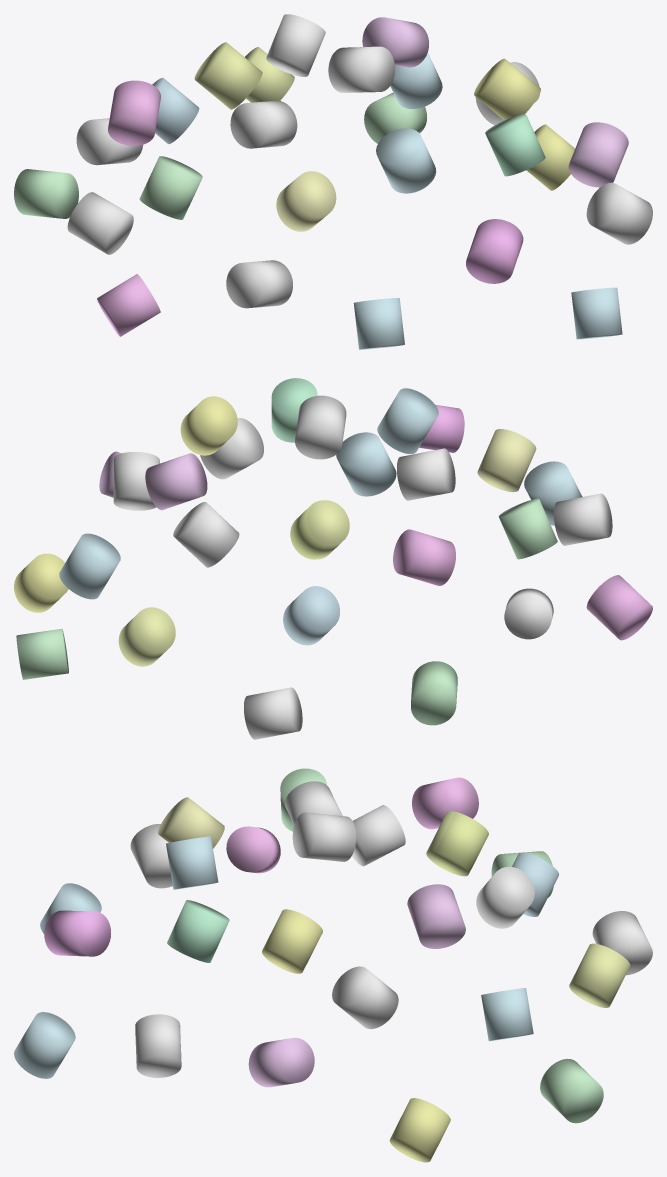
Rendered from marshmallows.gltf.
The picture shows the model from 3 angles, top to bottom: view 1: azimuth 30°, elevation 25°; view 2: azimuth 150°, elevation 25°; view 3: azimuth 270°, elevation 25°; orthographic projection.
Parts seen in each view (by area): view 1: Cylinder.022, Cylinder.011, Cylinder.023, Cylinder.005, Cylinder.003, Cylinder.001, Cylinder.019, Cylinder.008, Cylinder.002, Cylinder.020, Cylinder, Cylinder.010 (+15 smaller); view 2: Cylinder.027, Cylinder.001, Cylinder.005, Cylinder.017, Cylinder.011, Cylinder.021, Cylinder.012, Cylinder.019, Cylinder.004, Cylinder, Cylinder.002, Cylinder.008 (+16 smaller); view 3: Cylinder.004, Cylinder.026, Cylinder.013, Cylinder.027, Cylinder.001, Cylinder.003, Cylinder.022, Cylinder.023, Cylinder.012, Cylinder.006, Cylinder.018, Cylinder.025 (+14 smaller).
Part boxes in pixels (left/top/right/bottom): Cylinder.022: left=586, top=182, right=652, bottom=244; Cylinder.011: left=376, top=128, right=436, bottom=193; Cylinder.023: left=568, top=122, right=628, bottom=187; Cylinder.005: left=108, top=80, right=160, bottom=145; Cylinder.003: left=466, top=219, right=523, bottom=283; Cylinder.001: left=328, top=46, right=394, bottom=92; Cylinder.019: left=14, top=169, right=78, bottom=218; Cylinder.008: left=230, top=100, right=297, bottom=148; Cylinder.002: left=226, top=260, right=292, bottom=308; Cylinder.020: left=67, top=192, right=133, bottom=254; Cylinder: left=276, top=171, right=336, bottom=231; Cylinder.010: left=139, top=156, right=202, bottom=219; Cylinder.027: left=336, top=432, right=396, bottom=496; Cylinder.001: left=295, top=395, right=346, bottom=459; Cylinder.005: left=393, top=529, right=455, bottom=585; Cylinder.017: left=59, top=533, right=120, bottom=599; Cylinder.011: left=377, top=388, right=438, bottom=453; Cylinder.021: left=586, top=575, right=652, bottom=640; Cylinder.012: left=173, top=502, right=239, bottom=567; Cylinder.019: left=411, top=661, right=457, bottom=725; Cylinder.004: left=145, top=453, right=207, bottom=510; Cylinder: left=477, top=429, right=536, bottom=492; Cylinder.002: left=553, top=493, right=612, bottom=545; Cylinder.008: left=397, top=448, right=455, bottom=500; Cylinder.004: left=407, top=884, right=465, bottom=948; Cylinder.026: left=540, top=1058, right=603, bottom=1123; Cylinder.013: left=332, top=966, right=398, bottom=1029; Cylinder.027: left=14, top=1012, right=75, bottom=1078; Cylinder.001: left=292, top=812, right=356, bottom=861; Cylinder.003: left=44, top=910, right=110, bottom=956; Cylinder.022: left=135, top=1014, right=181, bottom=1077; Cylinder.023: left=248, top=1037, right=314, bottom=1087; Cylinder.012: left=476, top=866, right=534, bottom=928; Cylinder.006: left=262, top=909, right=322, bottom=973; Cylinder.018: left=569, top=943, right=630, bottom=1007; Cylinder.025: left=389, top=1098, right=450, bottom=1162.
Bounding box in the file's own units: 1.09 × 0.4414 × 1.09.
